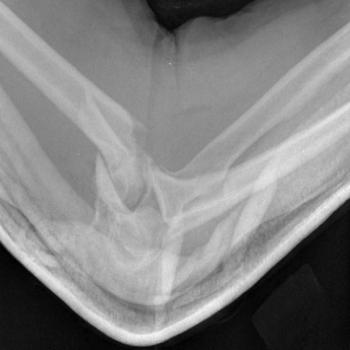Fracture: (93, 123, 164, 204)
